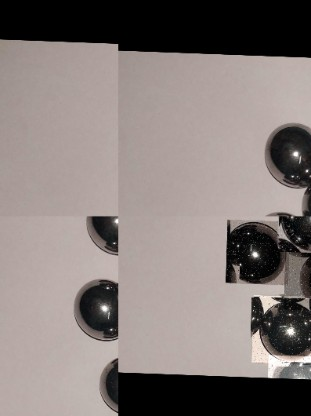ironball: (227, 218, 292, 284), (254, 293, 311, 363), (261, 116, 310, 188), (69, 276, 118, 346), (285, 245, 311, 310), (82, 216, 116, 256), (96, 353, 116, 414), (278, 216, 311, 251), (270, 353, 311, 377)
